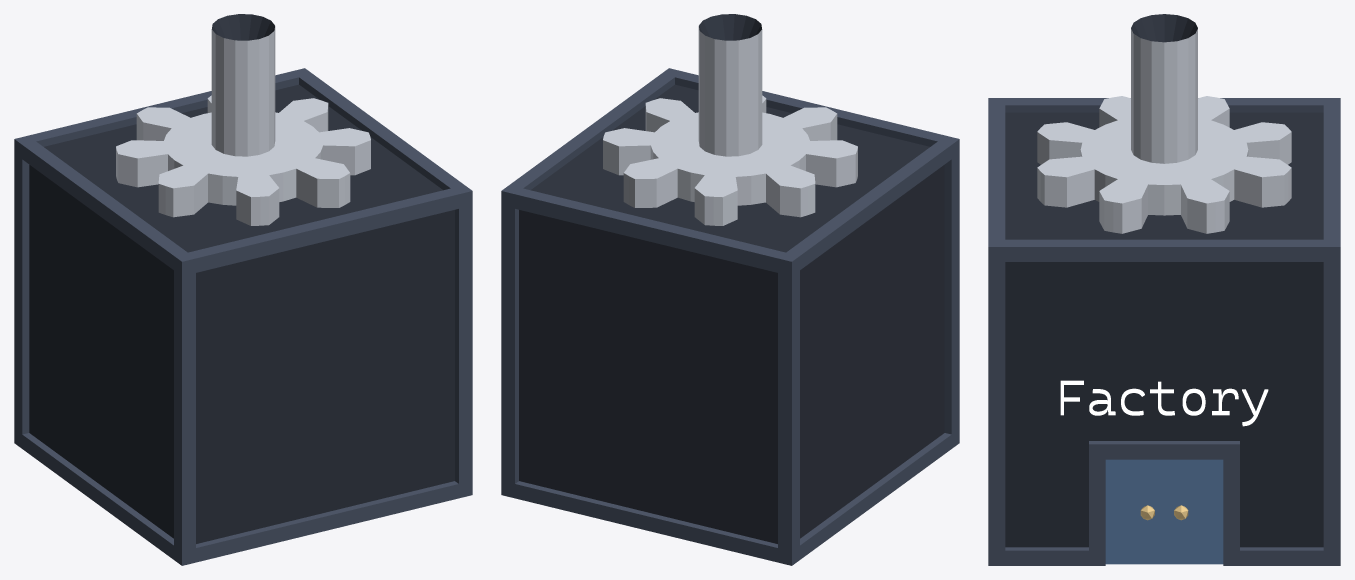
File: Factory.fbx
The picture shows the model from 3 angles, left to right: view 1: azimuth 30°, elevation 25°; view 2: azimuth 150°, elevation 25°; view 3: azimuth 270°, elevation 25°; orthographic projection. The views are drawn at different scales.
Visible parts, largest first — view 1: Factory, Factory Frame, Factory Gear, Factory Chimney; view 2: Factory, Factory Frame, Factory Gear, Factory Chimney; view 3: Factory, Factory Frame, Factory Gear, Factory Door, Factory Chimney, Factory Sign.
Boxes of the visible parts, <box> form: Factory: <box>29,84,454,543</box>; Factory Frame: <box>14,68,472,565</box>; Factory Gear: <box>116,95,370,225</box>; Factory Chimney: <box>211,14,275,156</box>; Factory: <box>519,84,944,543</box>; Factory Frame: <box>501,68,959,565</box>; Factory Gear: <box>603,95,857,225</box>; Factory Chimney: <box>698,14,762,156</box>; Factory: <box>1005,112,1323,547</box>; Factory Frame: <box>988,98,1340,565</box>; Factory Gear: <box>1037,96,1291,233</box>; Factory Door: <box>1105,459,1223,564</box>; Factory Chimney: <box>1131,14,1197,163</box>; Factory Sign: <box>1060,380,1268,426</box>.
Size of the model in its own units: 107 by 152 by 105.
